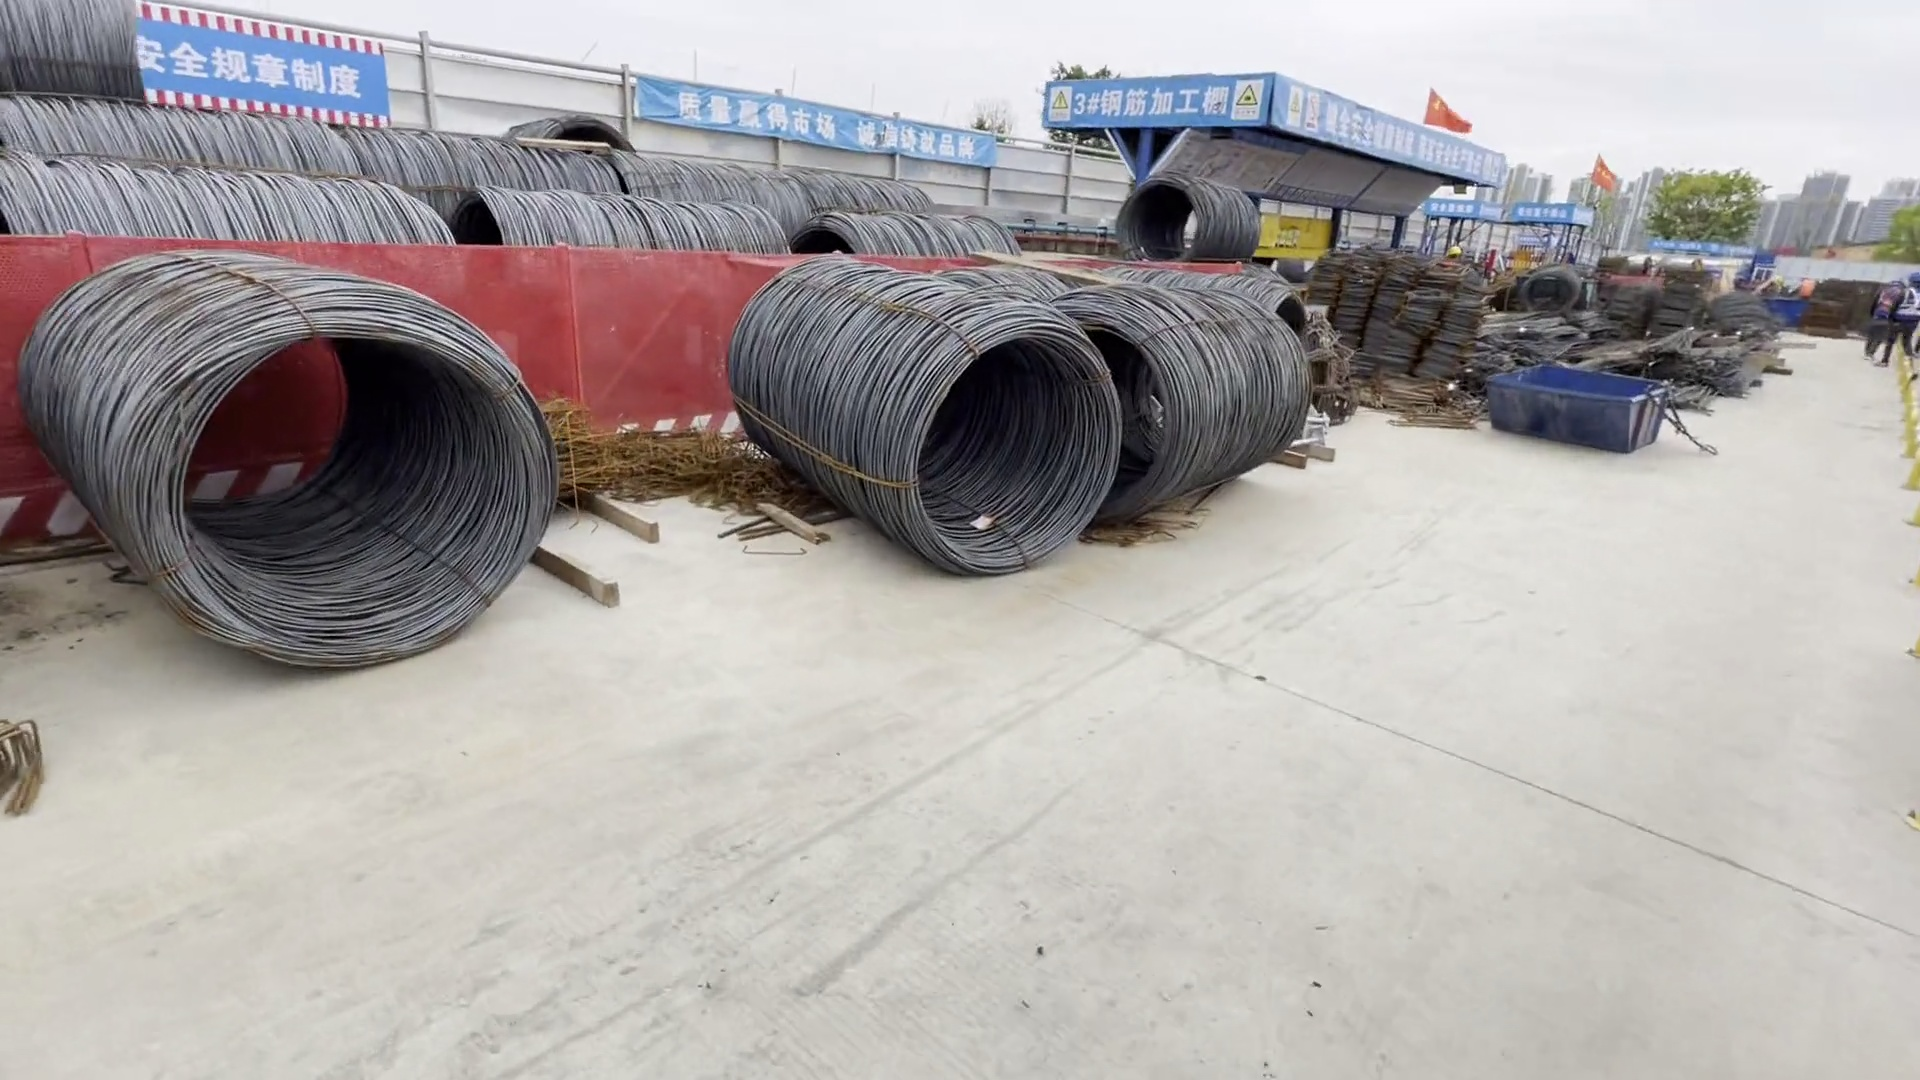ebox: (1253, 207, 1322, 247)
fence: (512, 264, 754, 445)
helmet: (1446, 246, 1464, 258), (1905, 271, 1920, 280)
hopper: (1482, 361, 1683, 450)
person: (1880, 269, 1920, 371), (1864, 273, 1901, 360)
rebar: (1643, 332, 1762, 399), (1491, 312, 1619, 356)
slogan: (627, 68, 965, 166), (124, 8, 410, 123), (1267, 80, 1510, 183)
vest: (1894, 286, 1920, 316), (1876, 288, 1896, 320)
